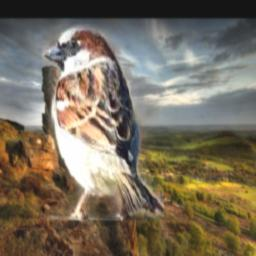Sparrow: (42, 25, 164, 221)
